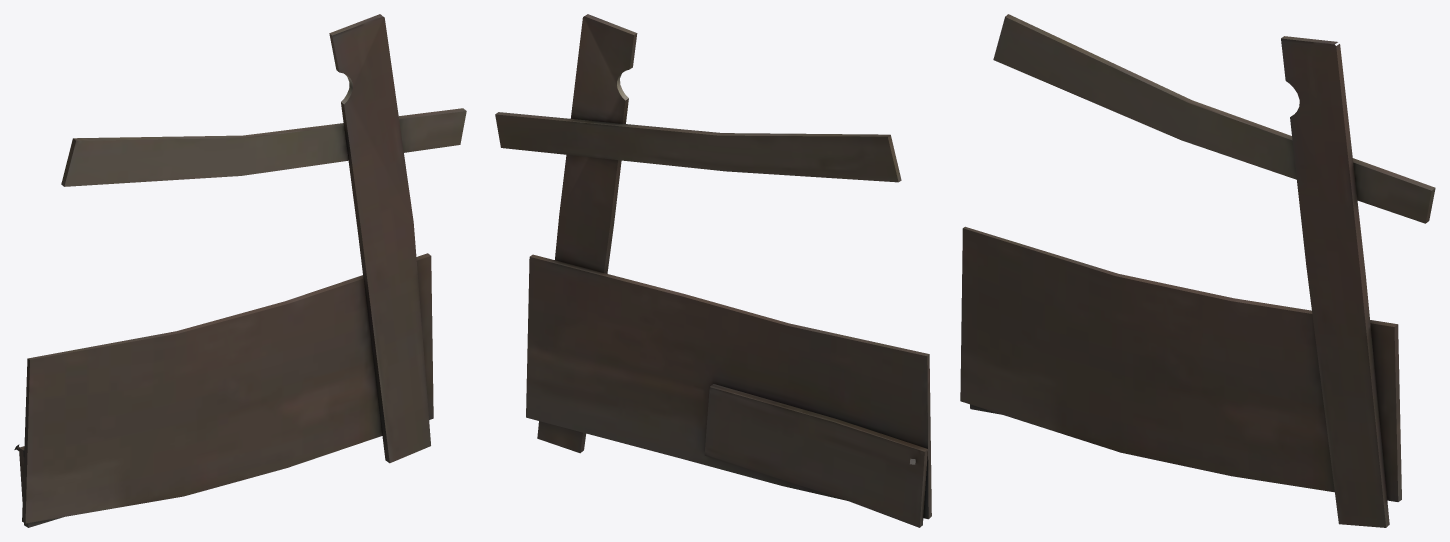
The picture shows the model from 3 angles, left to right: view 1: azimuth 30°, elevation 25°; view 2: azimuth 150°, elevation 25°; view 3: azimuth 330°, elevation 25°; orthographic projection. The views are drawn at different scales.
Parts seen in each view (by area): view 1: body0_model0_lod0_mesh0; view 2: body0_model0_lod0_mesh0; view 3: body0_model0_lod0_mesh0.
Part boxes in pixels (bbox=[...]): body0_model0_lod0_mesh0: bbox=[14, 14, 466, 527]; body0_model0_lod0_mesh0: bbox=[495, 14, 931, 527]; body0_model0_lod0_mesh0: bbox=[960, 14, 1435, 527].
Bounding box in the file's own units: 125 × 121 × 10.65.
Materials: 1 (1 with a texture image).
